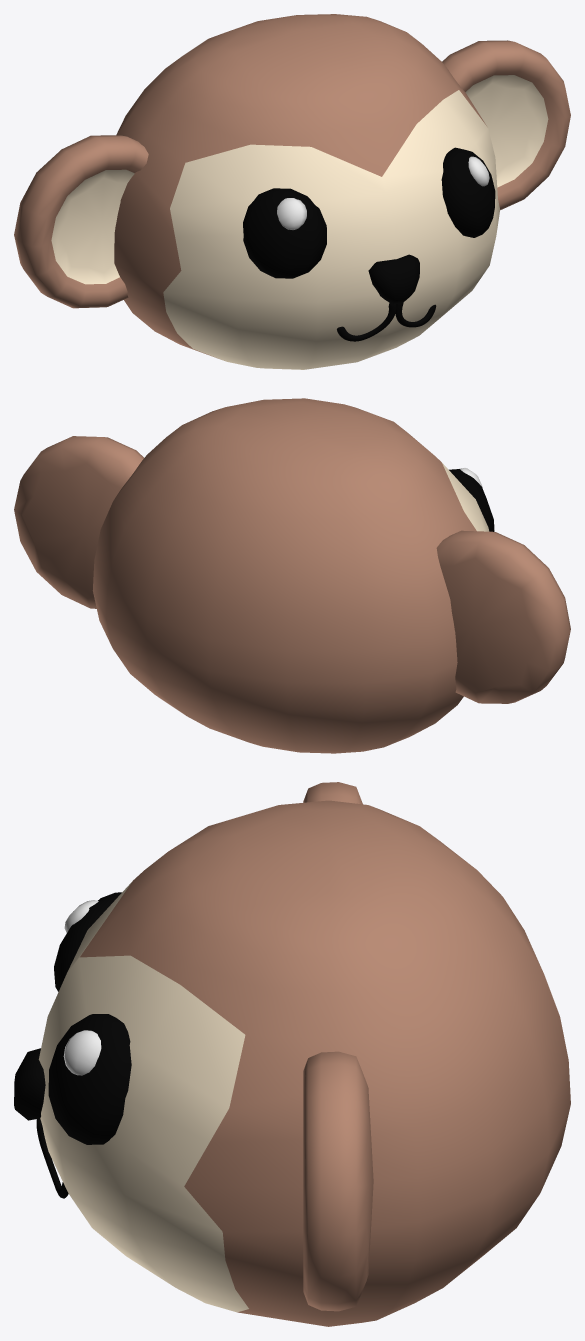
The model's file is monkeyhead.fbx.
3 views of the same model, one above another, from view 1: azimuth 30°, elevation 25°; view 2: azimuth 150°, elevation 25°; view 3: azimuth 270°, elevation 25° (orthographic). The views are drawn at different scales.
Parts seen in each view (by area): view 1: monkey_head; view 2: monkey_head; view 3: monkey_head.
Boxes of the visible parts, x1,y1,x2,y2 form: monkey_head: (14,14,570,369); monkey_head: (14,398,570,753); monkey_head: (14,782,570,1326).
Bounding box in the file's own units: 84.34 × 45.84 × 52.3.
